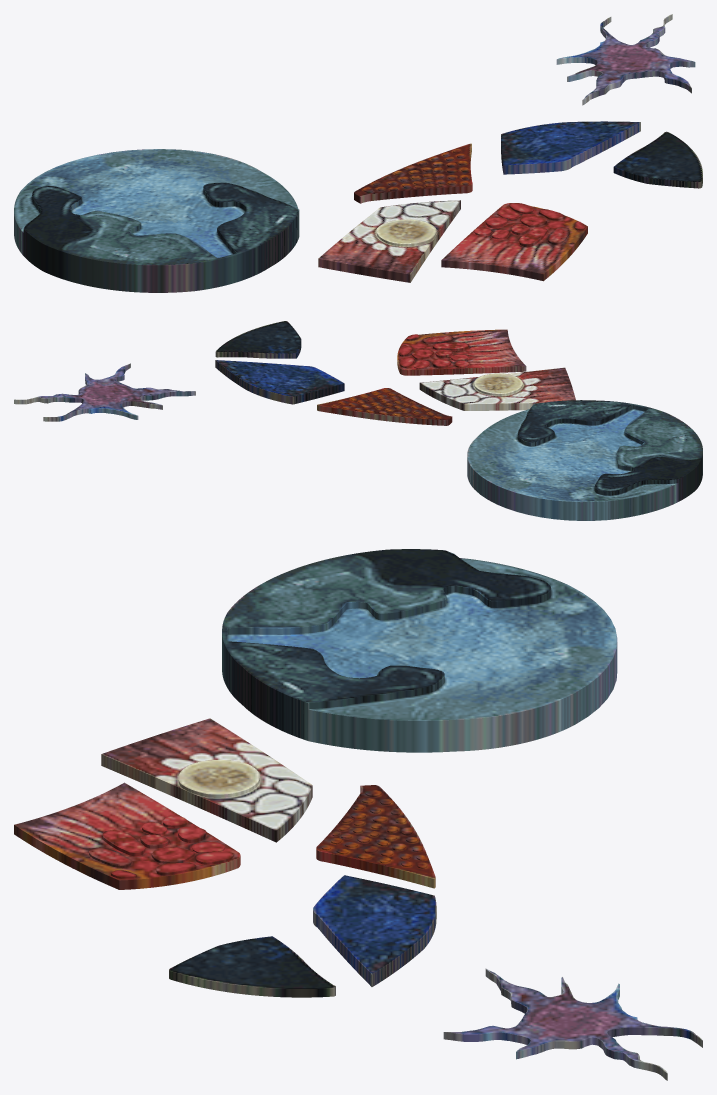
The model's file is el hombre y la quimica 2.dae.
3 views of the same model, one above another, from view 1: azimuth 30°, elevation 25°; view 2: azimuth 150°, elevation 25°; view 3: azimuth 270°, elevation 25° (orthographic). The views are drawn at different scales.
Parts seen in each view (by area): view 1: SketchUp (×8); view 2: SketchUp (×8); view 3: SketchUp (×8).
Part boxes in pixels (box(x1,y1,x2,y2)): SketchUp (×8): box(14, 14, 702, 292); SketchUp (×8): box(14, 321, 702, 520); SketchUp (×8): box(14, 549, 702, 1080).
Size of the model in its own units: 62.65 by 36.94 by 2.25.
